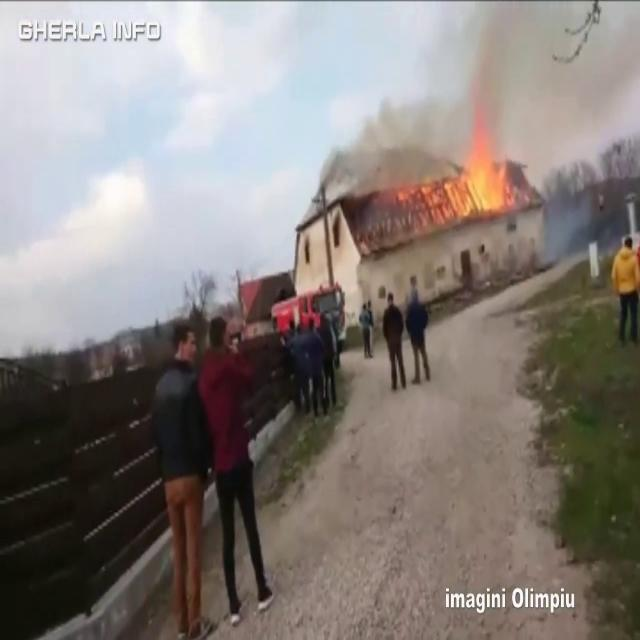fire: (432, 140, 516, 225)
smoke: (364, 3, 639, 162)
